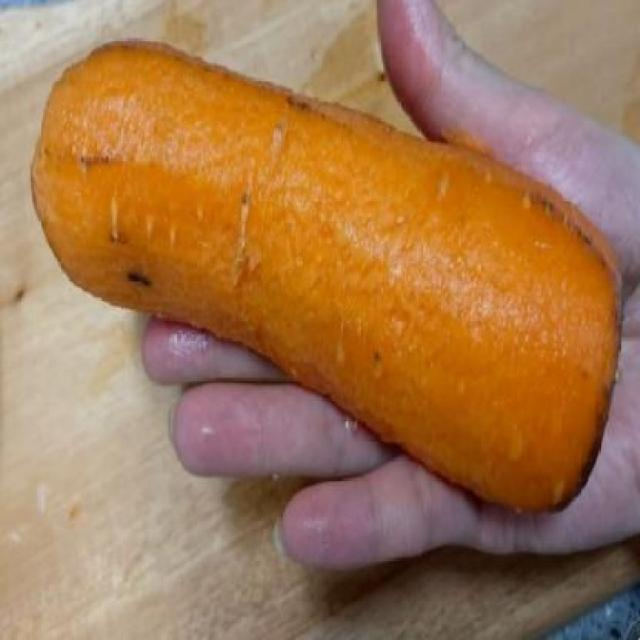carrot: (25, 29, 626, 528)
